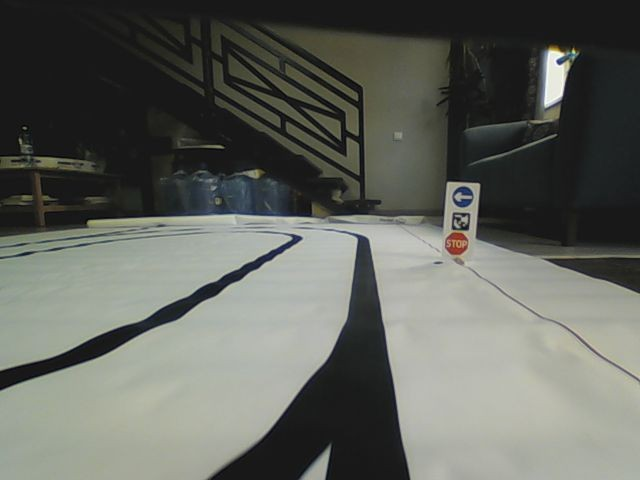Stop: (444, 229, 471, 258)
